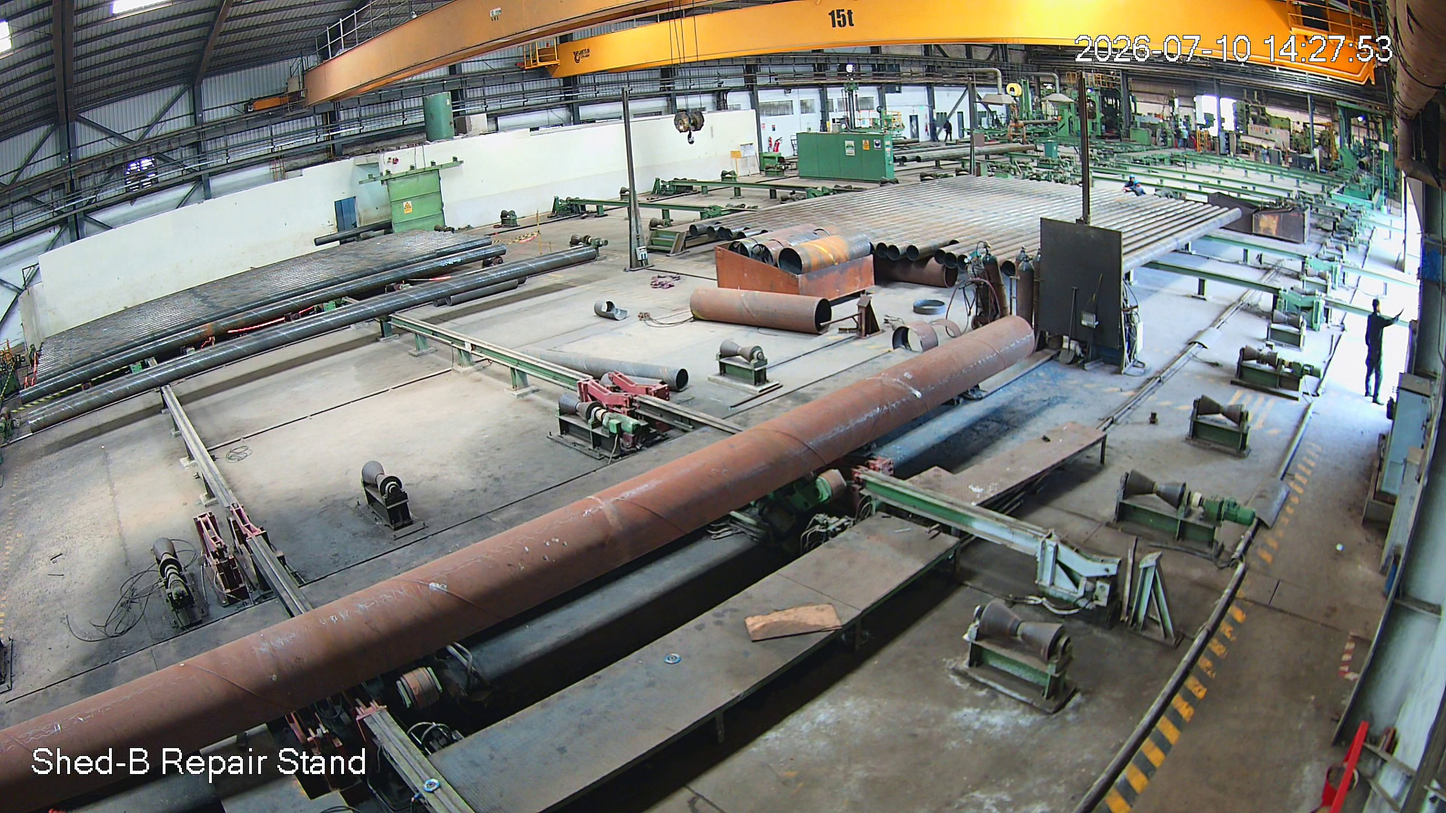Person: (1349, 292, 1407, 419)
